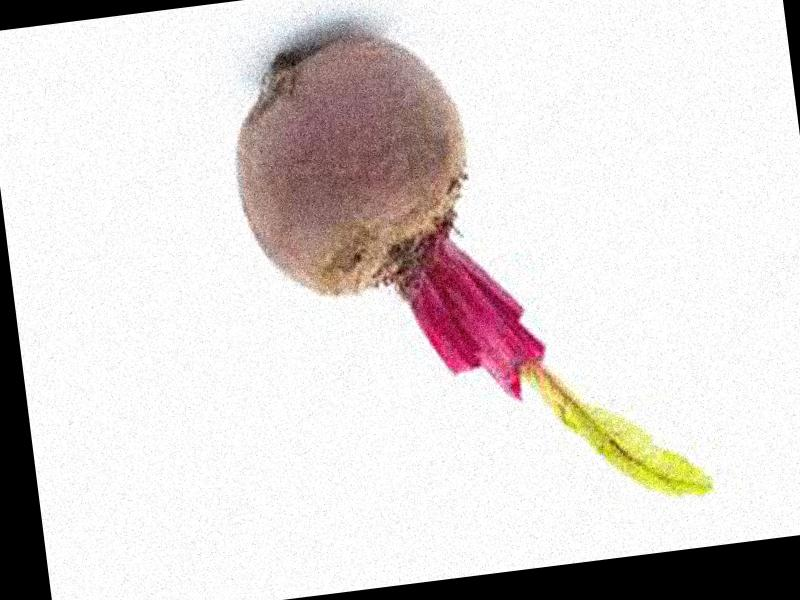Beet: (220, 1, 709, 546)
